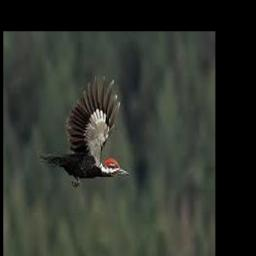Woodpecker: (40, 75, 129, 188)
